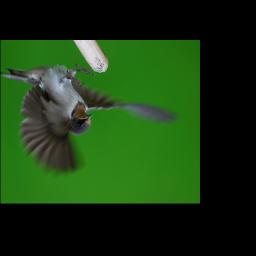Swallow: (4, 63, 178, 177)
